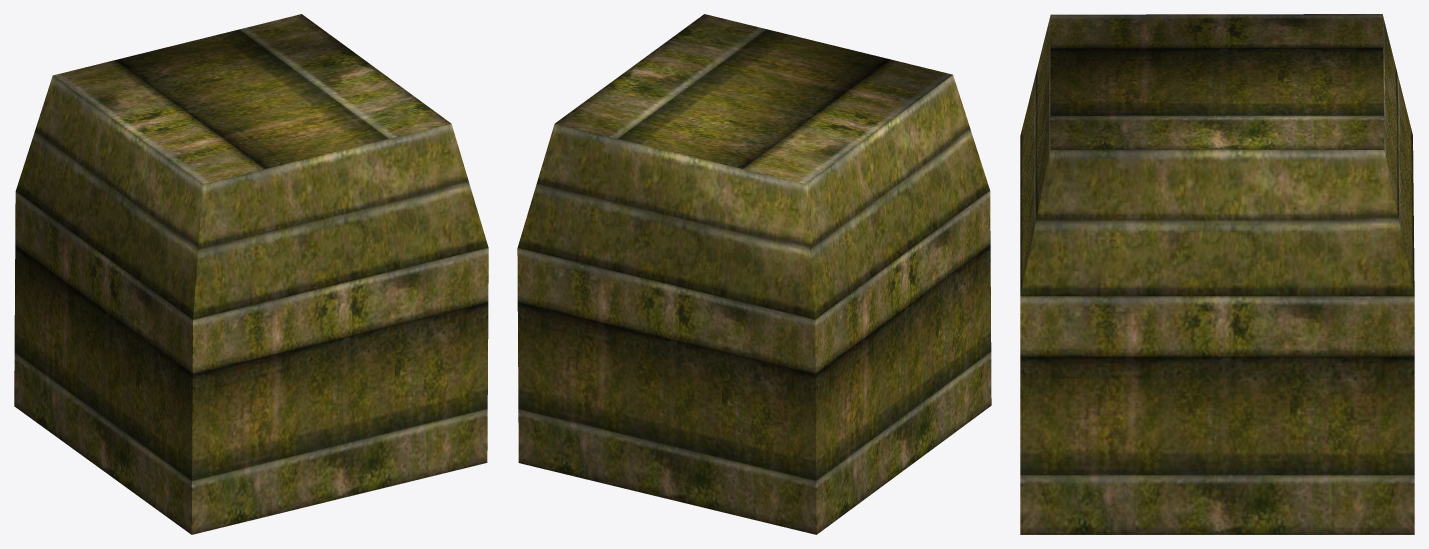
File: OVERHILL_A_01_OBJECT309.fbx
3 renders of one model, left to right at view 1: azimuth 30°, elevation 25°; view 2: azimuth 150°, elevation 25°; view 3: azimuth 270°, elevation 25°, orthographic. The views are drawn at different scales.
Visible parts, largest first — view 1: OVERHILL_A_01_OBJECT309; view 2: OVERHILL_A_01_OBJECT309; view 3: OVERHILL_A_01_OBJECT309.
Part boxes in pixels (bbox=[...]): OVERHILL_A_01_OBJECT309: bbox=[14, 14, 488, 534]; OVERHILL_A_01_OBJECT309: bbox=[517, 14, 991, 534]; OVERHILL_A_01_OBJECT309: bbox=[1020, 14, 1414, 534].
Bounding box in the file's own units: 11525 × 12361 × 11843.
Materials: 2 (2 with a texture image).
